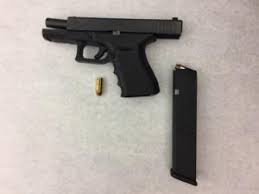gun: (40, 7, 184, 98)
